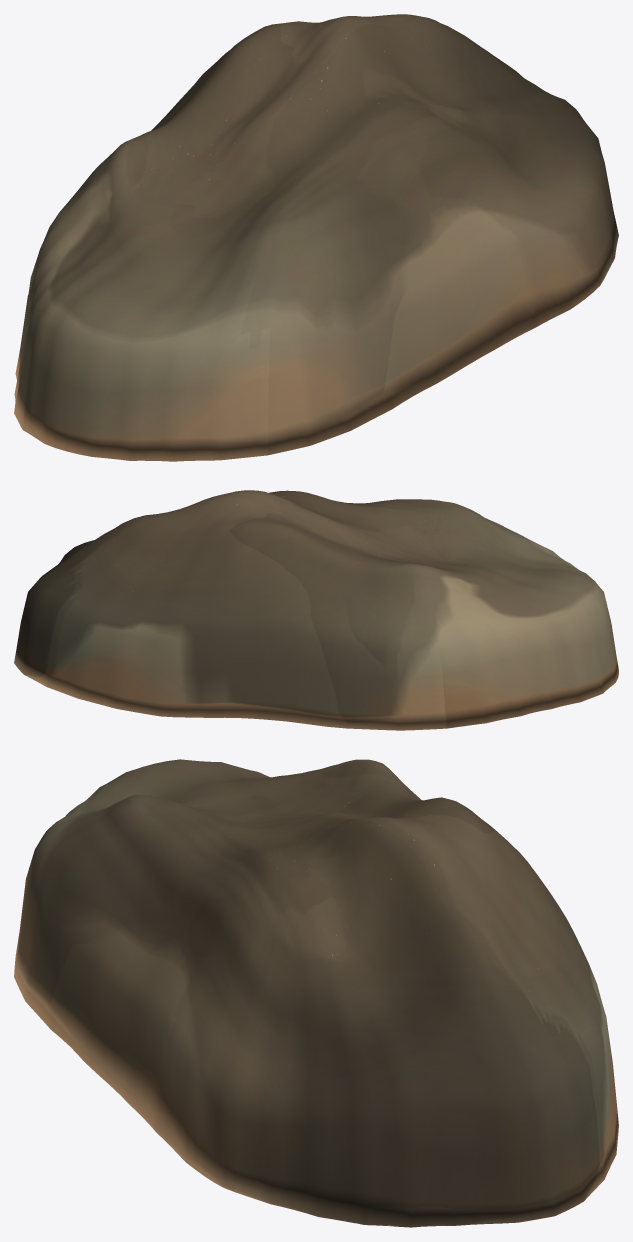
Rendered from Tas7.fbx.
3 renders of one model, top to bottom at view 1: azimuth 30°, elevation 25°; view 2: azimuth 150°, elevation 25°; view 3: azimuth 270°, elevation 25°, orthographic. The views are drawn at different scales.
Visible parts, largest first — view 1: Cube.036; view 2: Cube.036; view 3: Cube.036.
Boxes of the visible parts, x1,y1,x2,y2 form: Cube.036: [14, 14, 618, 461]; Cube.036: [14, 490, 618, 730]; Cube.036: [14, 759, 618, 1227].
Size of the model in its own units: 772 by 271 by 553.
Materials: 1 (1 with a texture image).
